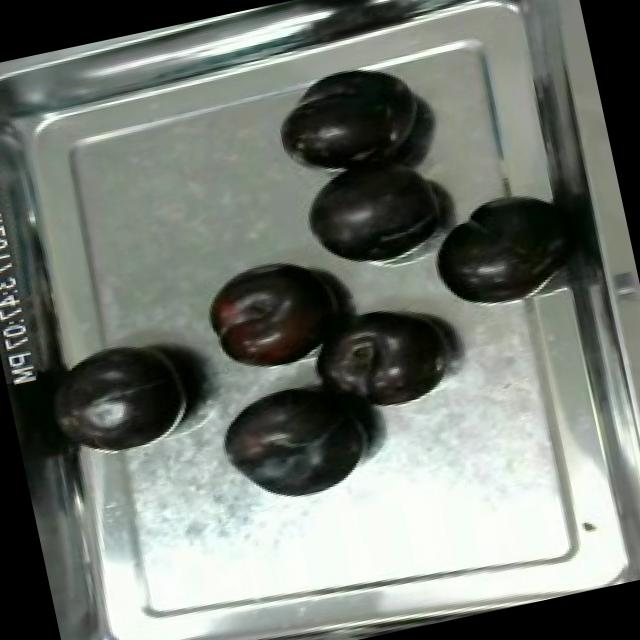Fruit: (202, 363, 390, 518), (36, 326, 210, 468), (290, 140, 453, 282), (194, 243, 358, 384), (298, 293, 463, 427), (267, 52, 431, 182), (416, 186, 564, 318)
